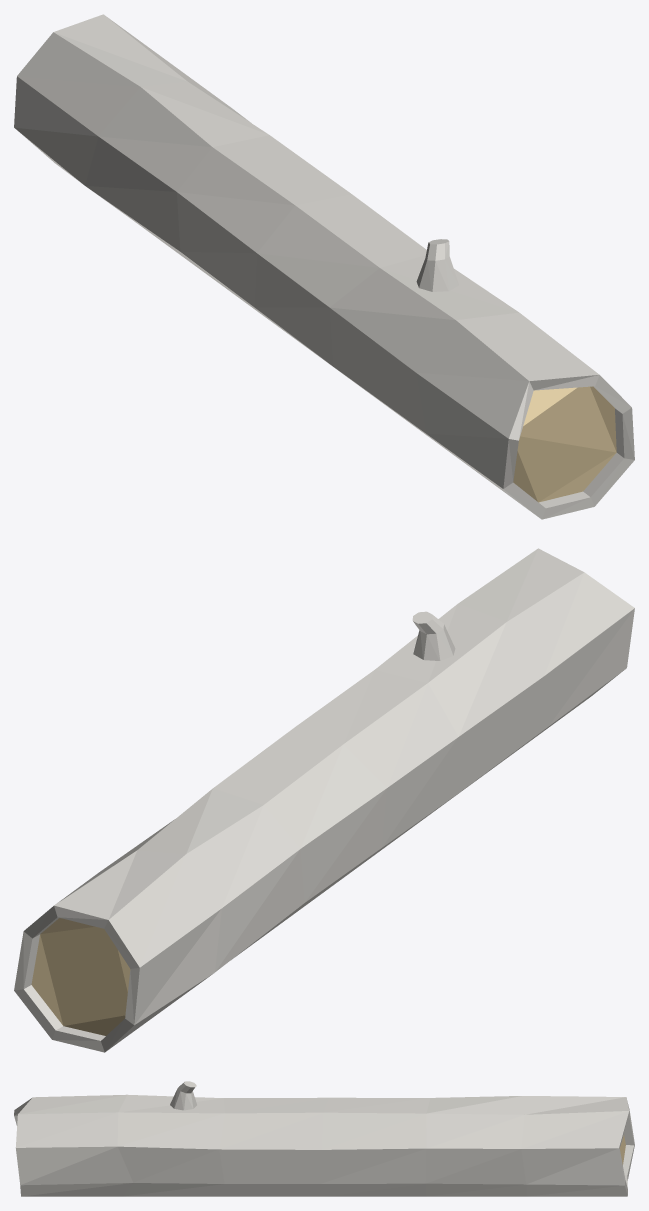
File: log_02.glb
The picture shows the model from 3 angles, top to bottom: view 1: azimuth 30°, elevation 25°; view 2: azimuth 150°, elevation 25°; view 3: azimuth 270°, elevation 25°; orthographic projection. The views are drawn at different scales.
Parts seen in each view (by area): view 1: Object_10, Object_11; view 2: Object_10, Object_11; view 3: Object_10.
Boxes of the visible parts, bbox=[...] form: Object_10: bbox=[14, 14, 634, 519]; Object_11: bbox=[513, 386, 616, 502]; Object_10: bbox=[14, 548, 634, 1052]; Object_11: bbox=[31, 918, 130, 1035]; Object_10: bbox=[14, 1081, 634, 1196].
Bounding box in the file's own units: 0.9235 × 1.14 × 5.96.
